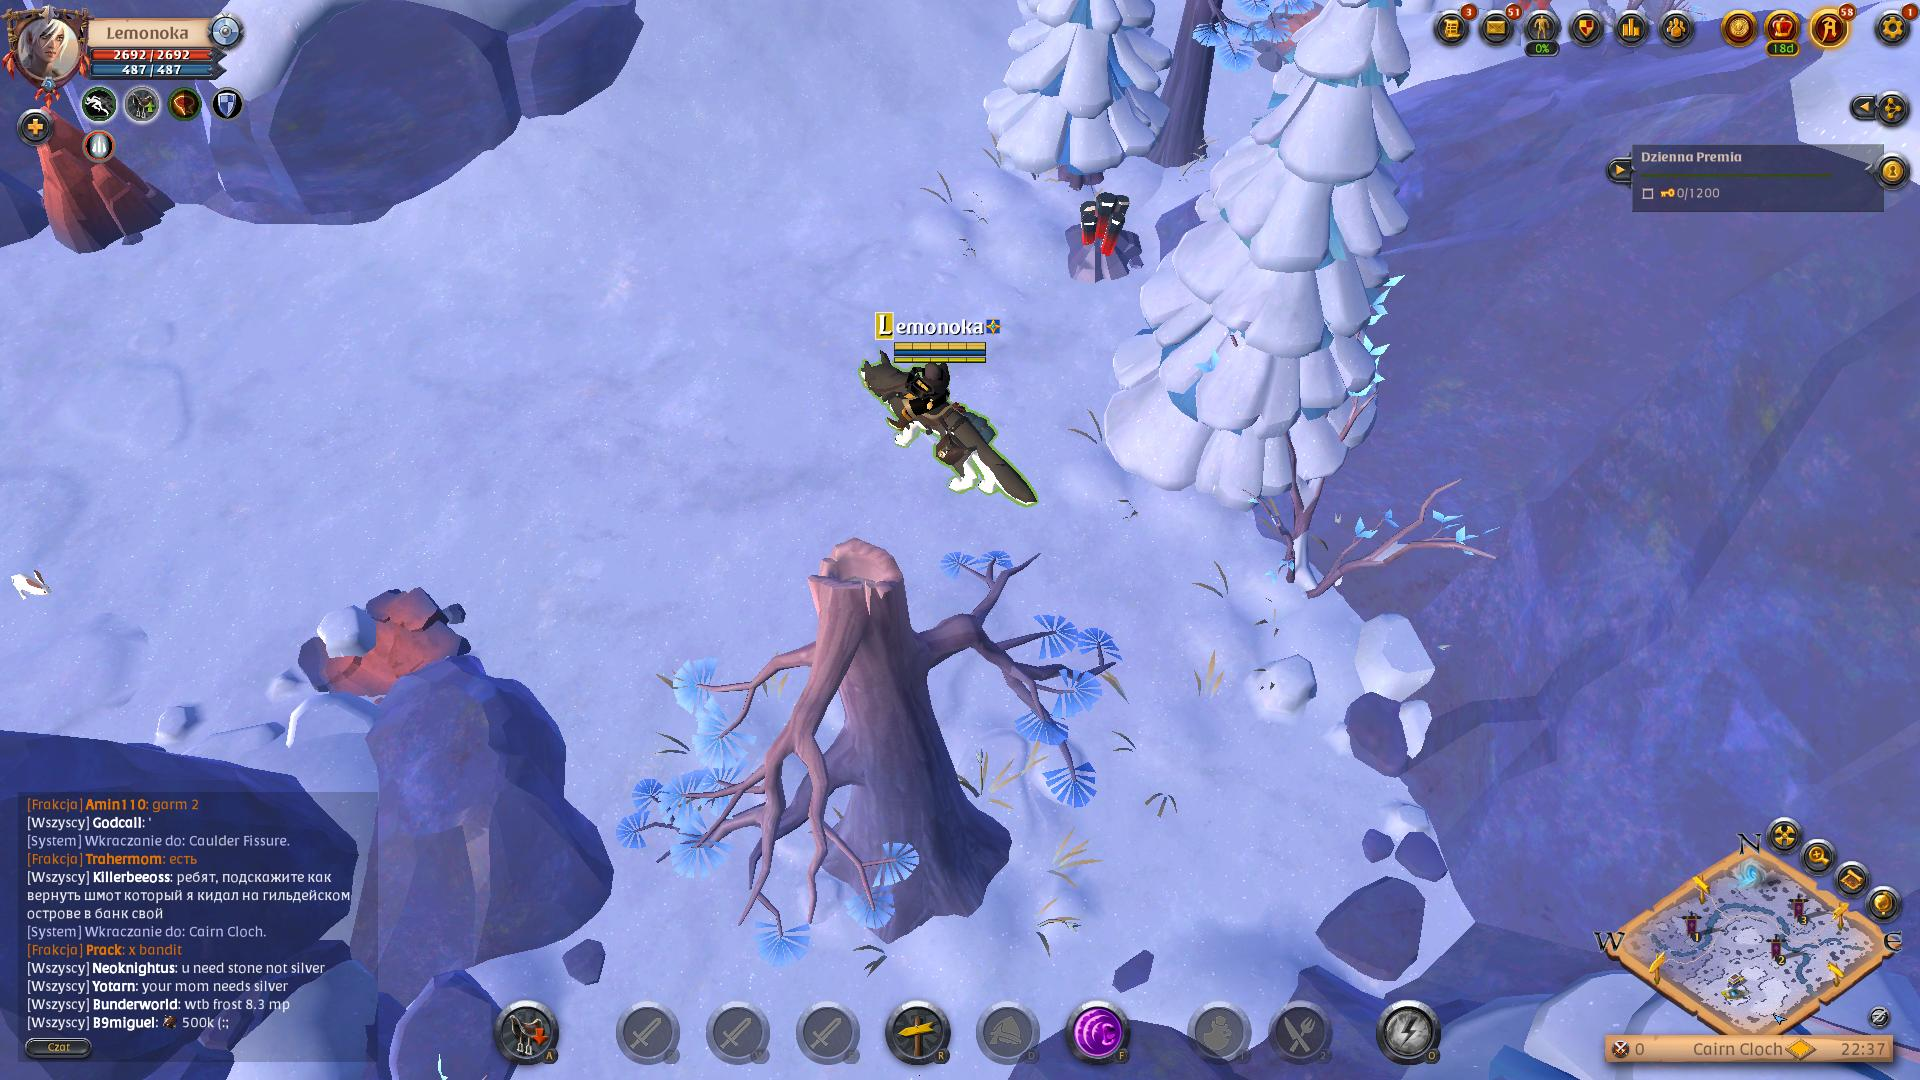ore tier 5: (1052, 185, 1143, 284)
